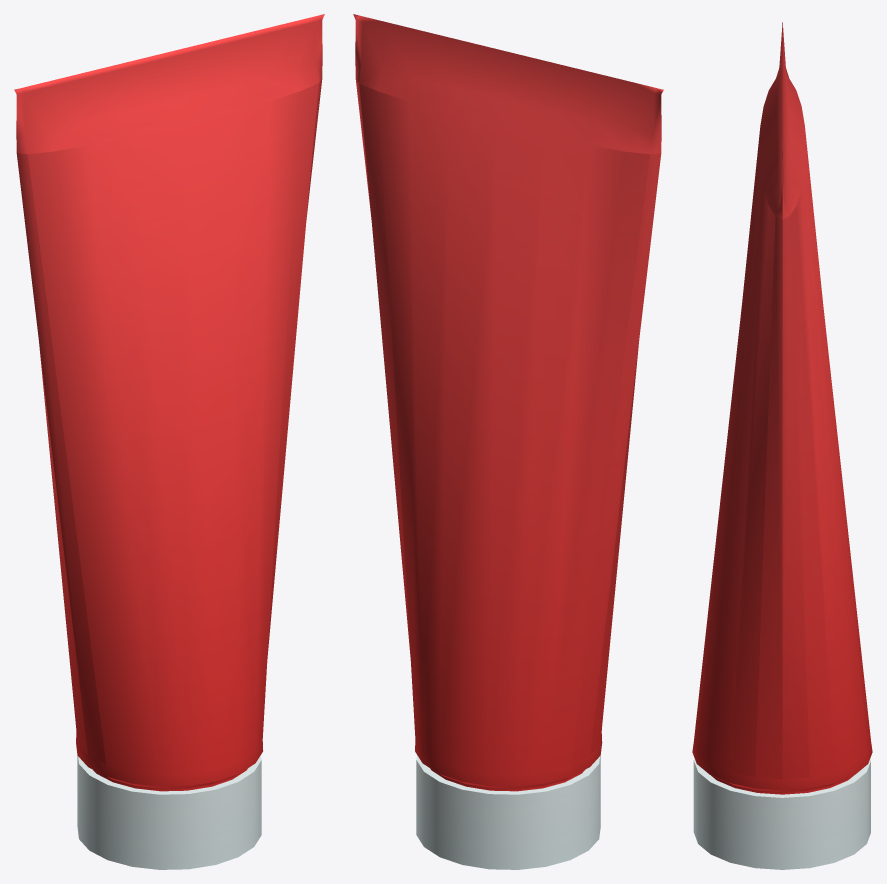
The model's file is cream_red.fbx.
The picture shows the model from 3 angles, left to right: view 1: azimuth 30°, elevation 25°; view 2: azimuth 150°, elevation 25°; view 3: azimuth 270°, elevation 25°; orthographic projection. The views are drawn at different scales.
Parts seen in each view (by area): view 1: cream_red; view 2: cream_red; view 3: cream_red.
Part boxes in pixels (bbox=[...]): cream_red: bbox=[14, 14, 324, 869]; cream_red: bbox=[353, 14, 663, 869]; cream_red: bbox=[692, 22, 872, 869].
Size of the model in its own units: 74.11 by 178 by 38.9.
